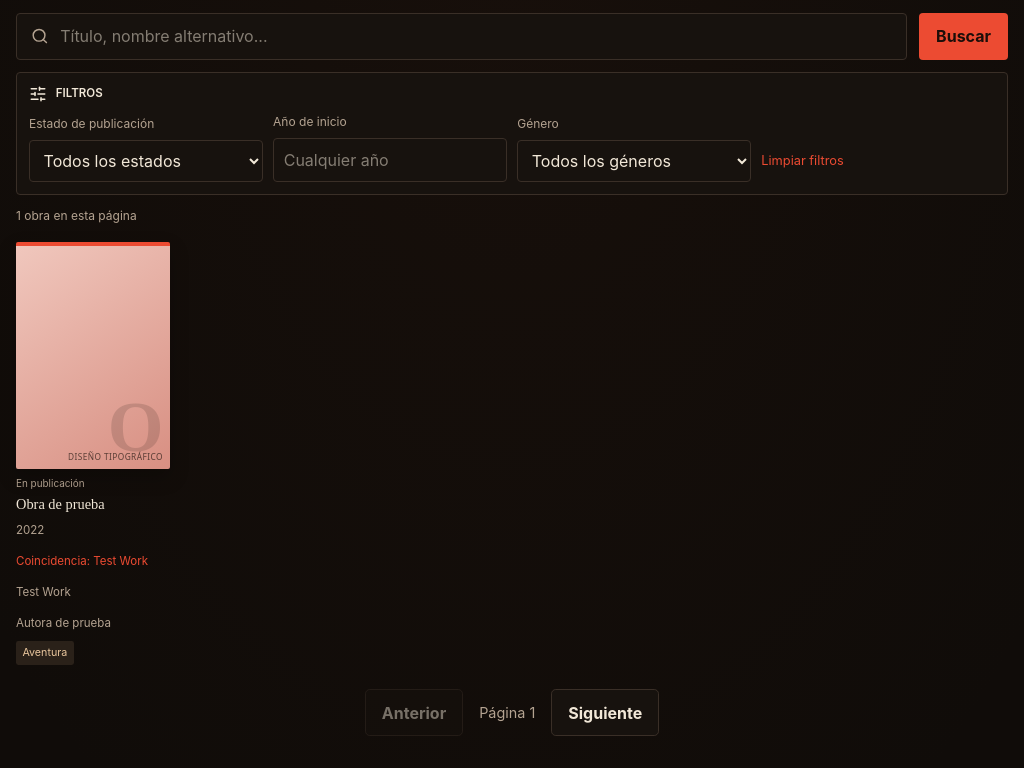
CatalogPage › only enables the next page when another result exists
(page scrolled)
Expected: the heading "Obra de prueba" is shown, left=16, top=496, right=105, bottom=512
Click the button "Siguiente" at point(605, 713), box left=551, top=689, right=659, bottom=736
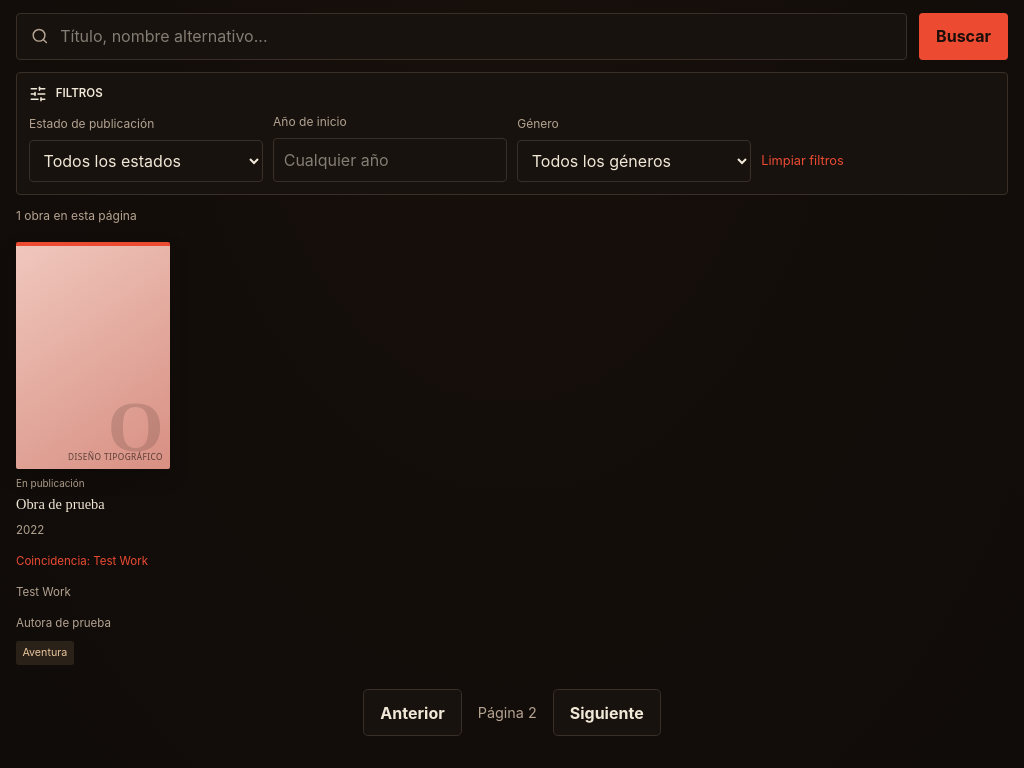
Expected: the text "Página 2" is shown, left=478, top=702, right=537, bottom=723
